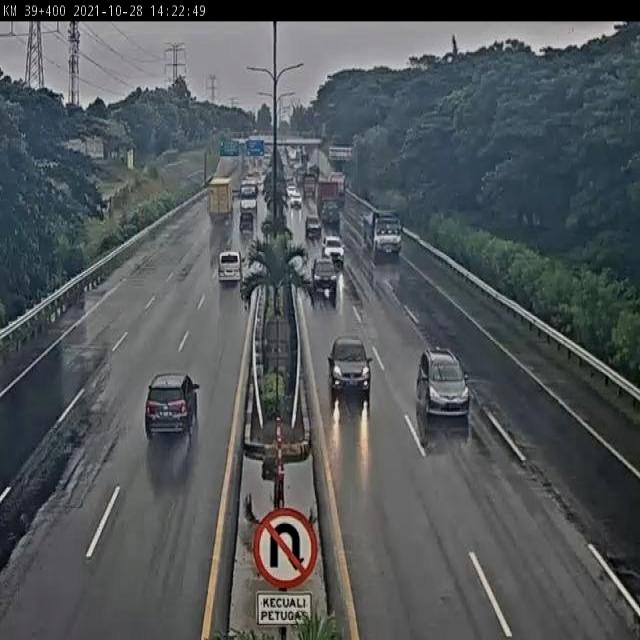Bus: (238, 178, 259, 219)
Car: (144, 374, 201, 441), (417, 350, 470, 422), (328, 338, 373, 402), (311, 255, 340, 294), (318, 234, 347, 266), (217, 250, 243, 285), (305, 217, 321, 239), (240, 213, 253, 232), (289, 191, 303, 208)
Truck: (363, 208, 404, 258), (208, 177, 234, 225), (316, 182, 342, 229), (302, 173, 317, 198)
